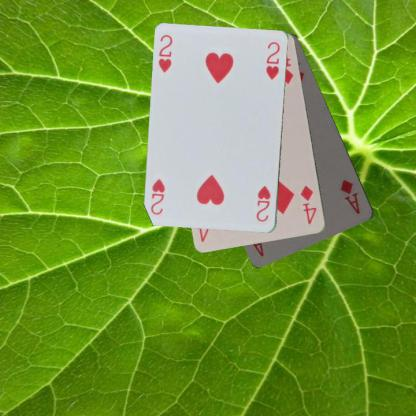2h: (156, 32, 174, 74), (254, 183, 272, 224)
4d: (298, 183, 318, 225)
Ad: (338, 177, 362, 215)
